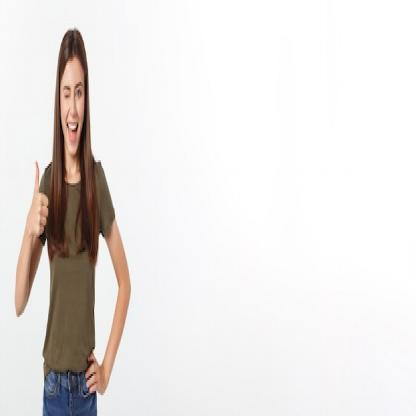thumb_up: (28, 152, 51, 252)
